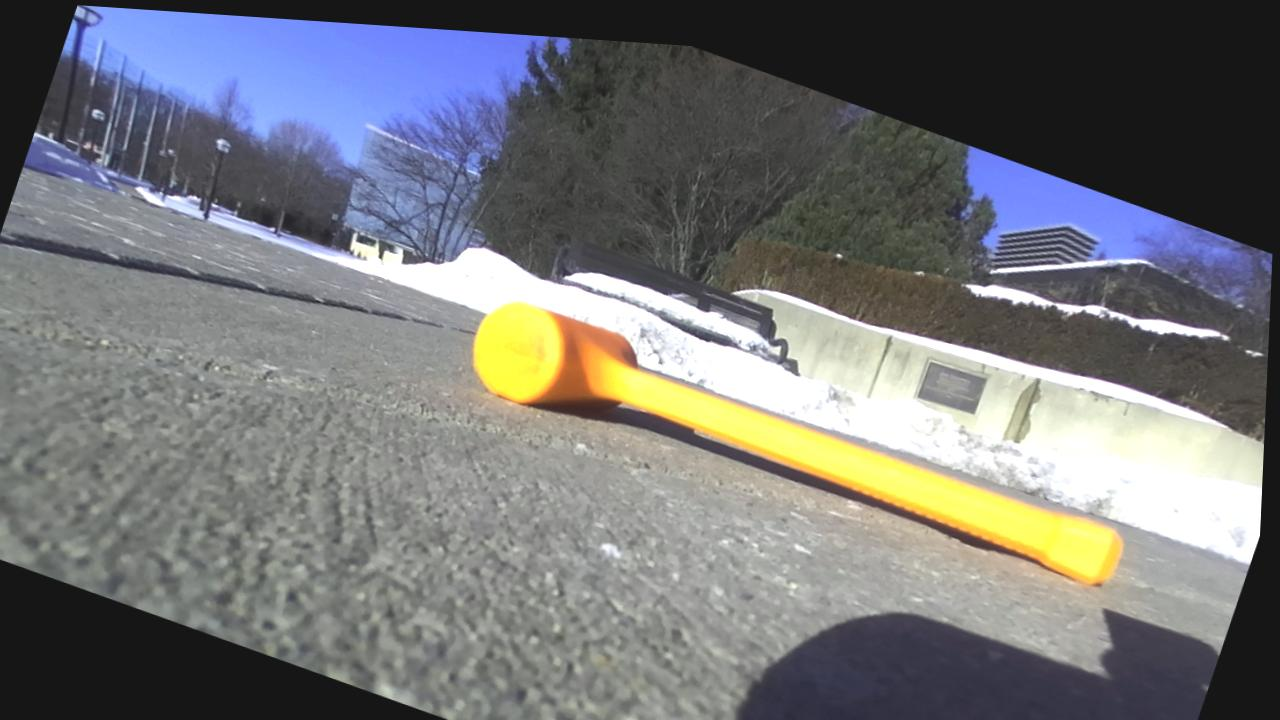mallet: (474, 301, 1121, 584)
